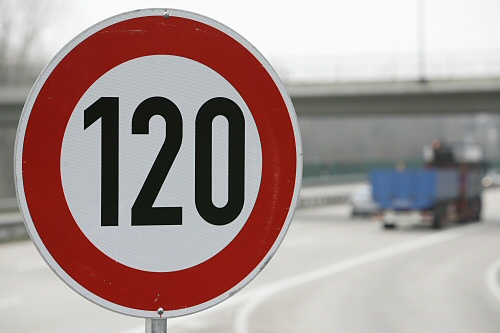Speed_limit_120km: (10, 6, 306, 321)
